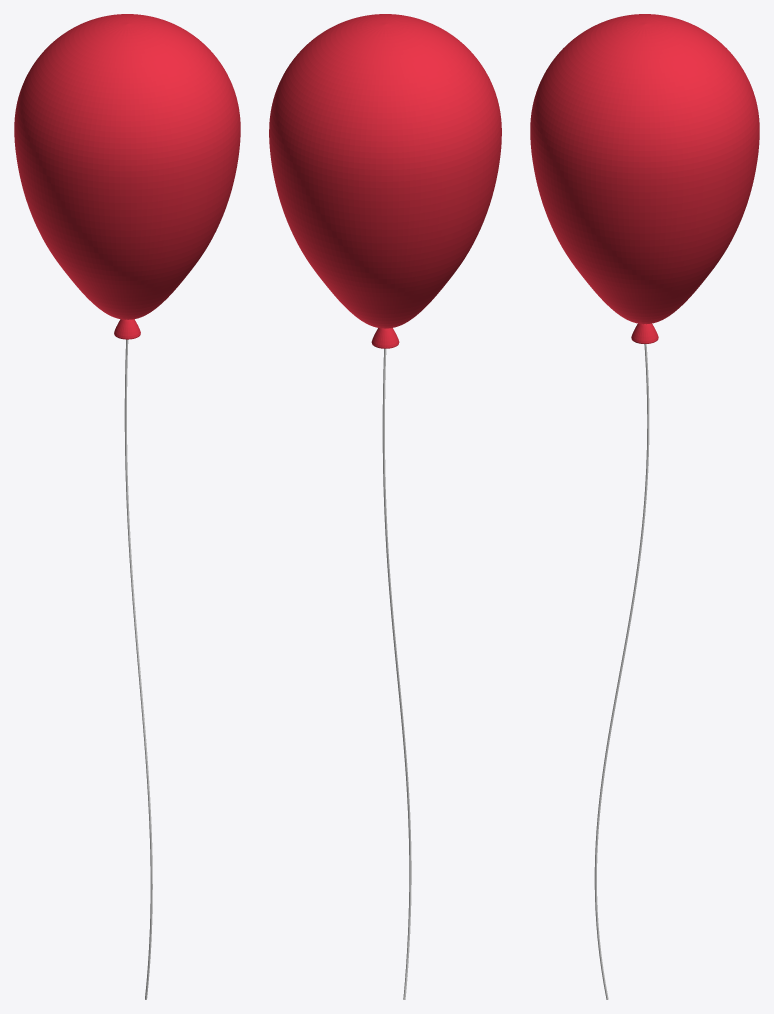
The model's file is balloons.fbx.
The picture shows the model from 3 angles, left to right: view 1: azimuth 30°, elevation 25°; view 2: azimuth 150°, elevation 25°; view 3: azimuth 270°, elevation 25°; orthographic projection. The views are drawn at different scales.
Parts seen in each view (by area): view 1: Sphere; view 2: Sphere; view 3: Sphere.
Boxes of the visible parts, box(x1,y1,x2,y2) form: Sphere: box(14, 14, 240, 999); Sphere: box(269, 14, 501, 999); Sphere: box(530, 14, 759, 999).
Size of the model in its own units: 197 by 926 by 197.
